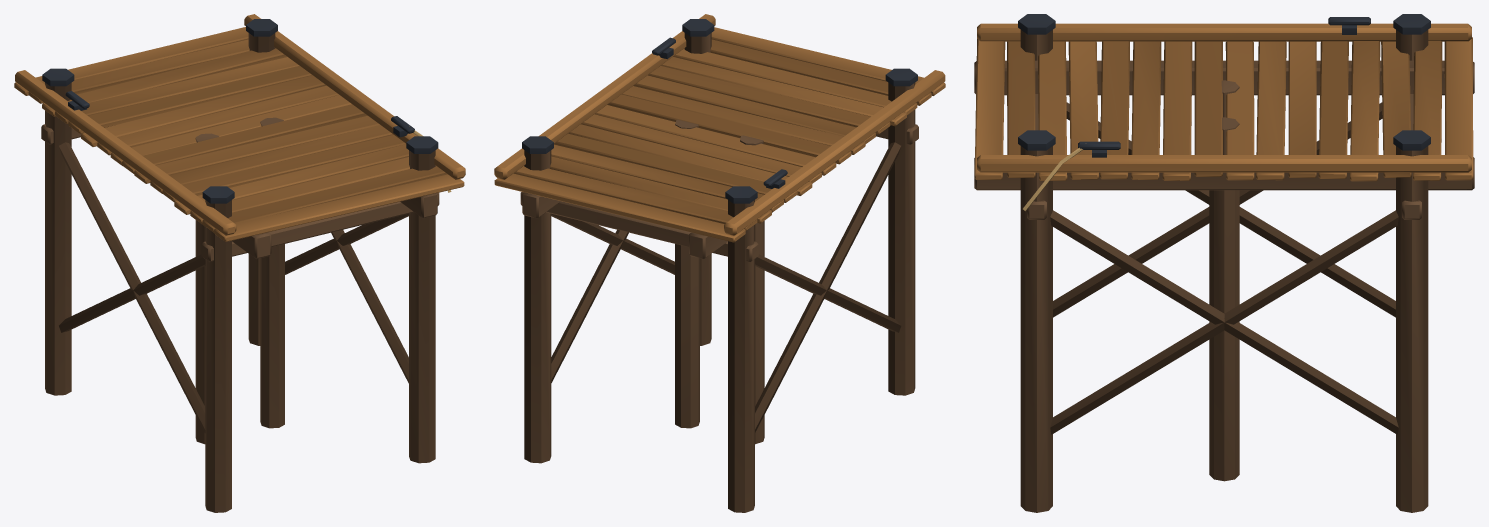
Rendered from dock.glb.
3 views of the same model, side by side, from view 1: azimuth 30°, elevation 25°; view 2: azimuth 150°, elevation 25°; view 3: azimuth 270°, elevation 25° (orthographic). The views are drawn at different scales.
Parts seen in each view (by area): view 1: dock Dock wood, dock Pile wood, dock Iron; view 2: dock Dock wood, dock Pile wood, dock Iron; view 3: dock Dock wood, dock Pile wood, dock Iron.
Part boxes in pixels (bbox=[...]): dock Dock wood: bbox=[14, 14, 465, 241]; dock Pile wood: bbox=[41, 33, 439, 512]; dock Iron: bbox=[42, 19, 438, 203]; dock Dock wood: bbox=[494, 14, 945, 242]; dock Pile wood: bbox=[520, 33, 918, 512]; dock Iron: bbox=[522, 19, 917, 203]; dock Dock wood: bbox=[974, 23, 1473, 181]; dock Pile wood: bbox=[974, 30, 1474, 512]; dock Iron: bbox=[1018, 14, 1430, 157].
Size of the model in its own units: 2.67 by 3.33 by 4.
